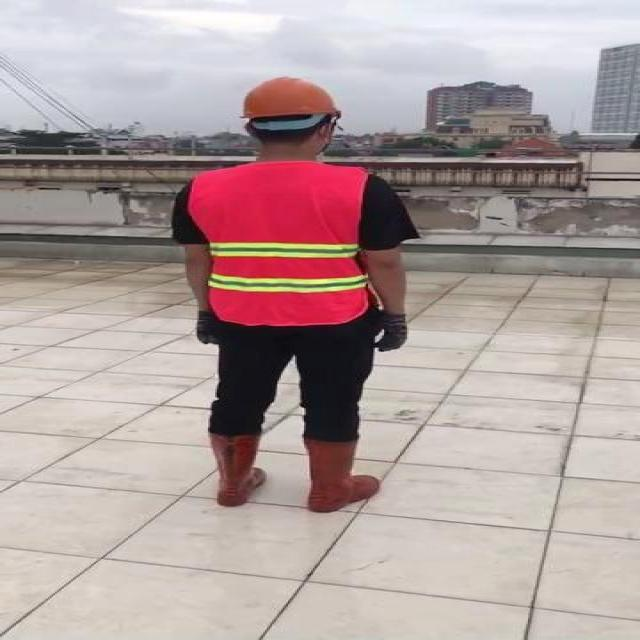boots: (300, 434, 377, 517), (204, 430, 268, 514)
hand_glove: (372, 311, 418, 352), (186, 314, 228, 345)
head_helmet: (233, 75, 347, 125)
person: (169, 74, 427, 520)
vest: (190, 163, 374, 325)
